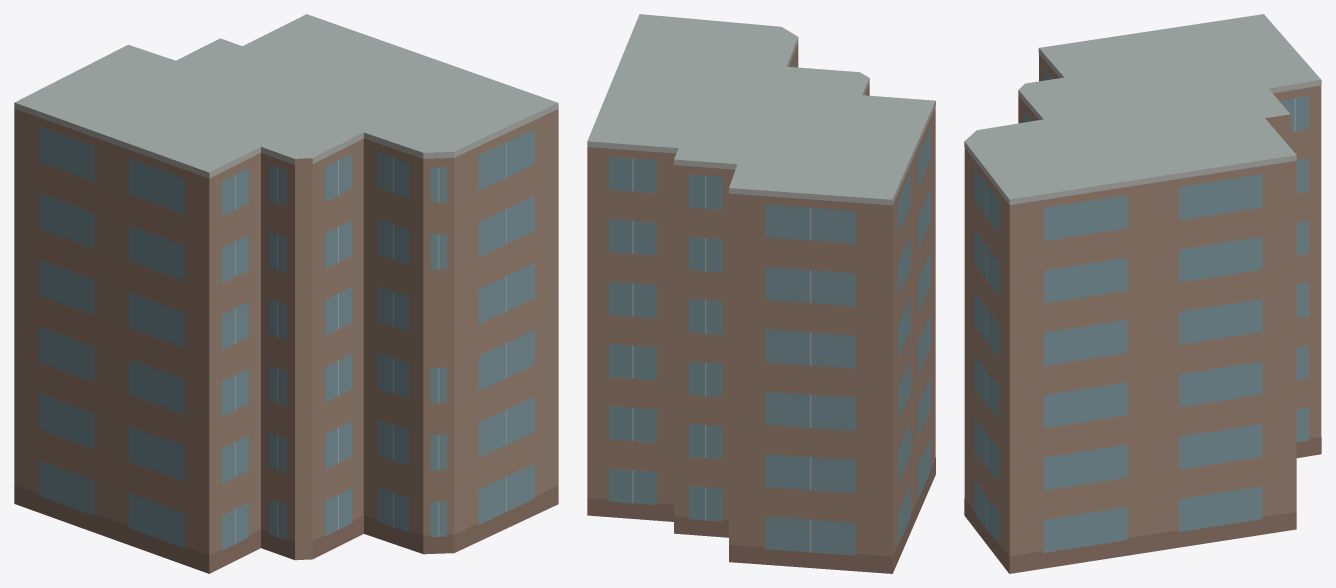
File: survey-upis-32741417.glb
3 renders of one model, left to right at view 1: azimuth 30°, elevation 25°; view 2: azimuth 150°, elevation 25°; view 3: azimuth 270°, elevation 25°, orthographic. The views are drawn at different scales.
Visible parts, largest first — view 1: survey-upis-32741417.tmp; view 2: survey-upis-32741417.tmp; view 3: survey-upis-32741417.tmp.
Boxes of the visible parts, x1,y1,x2,y2 form: survey-upis-32741417.tmp: (14,14,558,573); survey-upis-32741417.tmp: (587,14,935,573); survey-upis-32741417.tmp: (964,14,1321,573).
Size of the model in its own units: 17.45 by 16.4 by 14.19.
